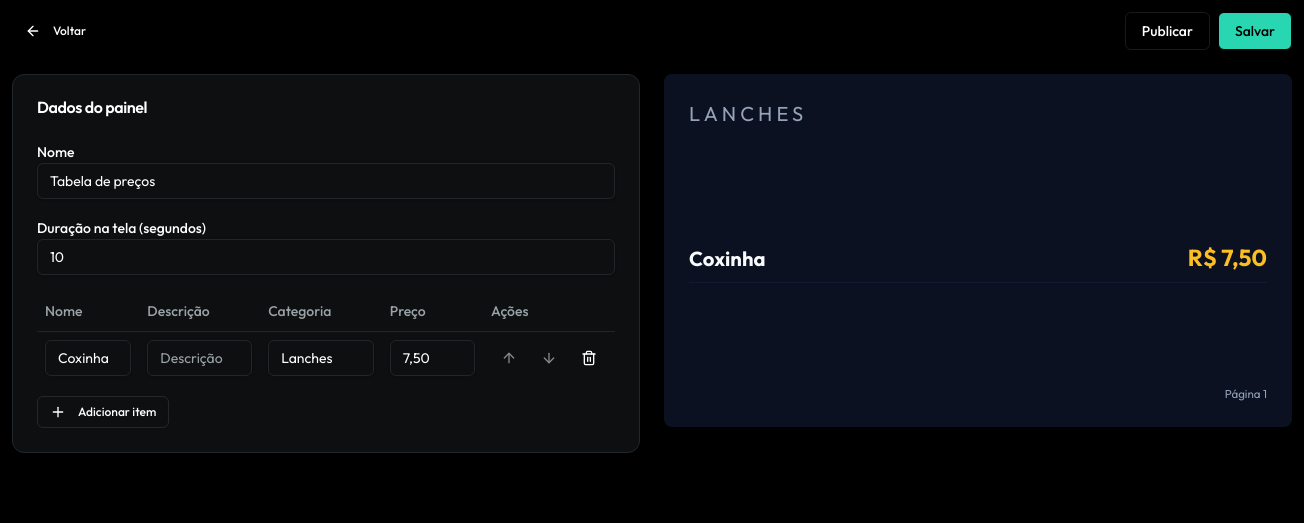
it: PortalPanelEditor › adiciona uma linha vazia ao clicar em adicionar item
This screenshot has width=1304, height=523.
Expected: the 1st field showing "Coxinha" is shown, [45,340,131,376]
Step 1. Click the button "Adicionar item" → point(103, 412), box [37,396,169,428]
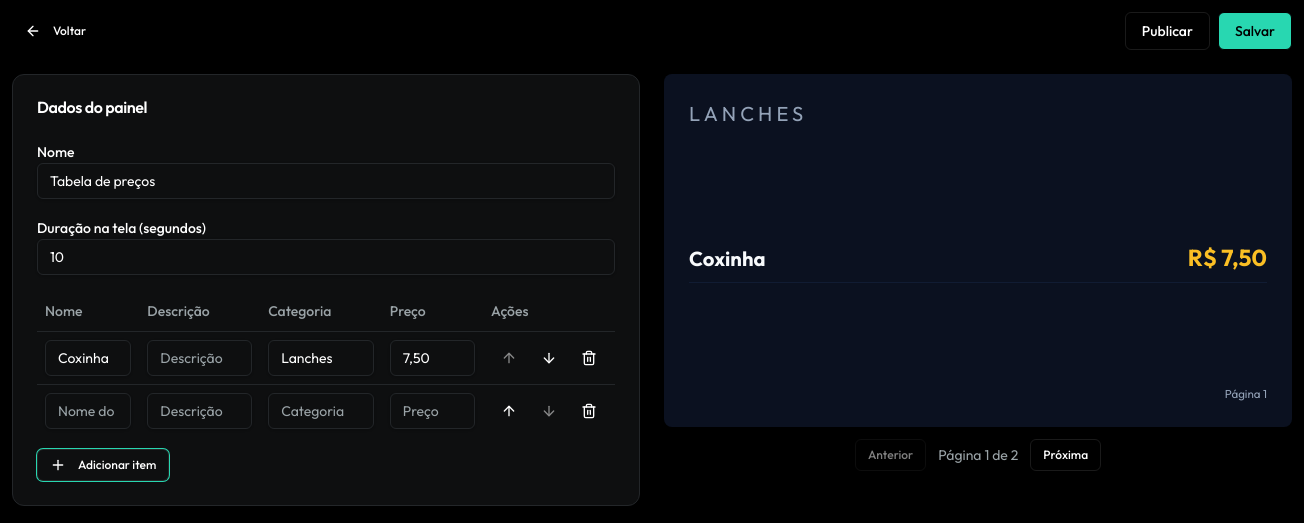
Result: the number of fields with placeholder "Nome do item" is 2 at [45,340,131,376]; [45,392,131,428]
